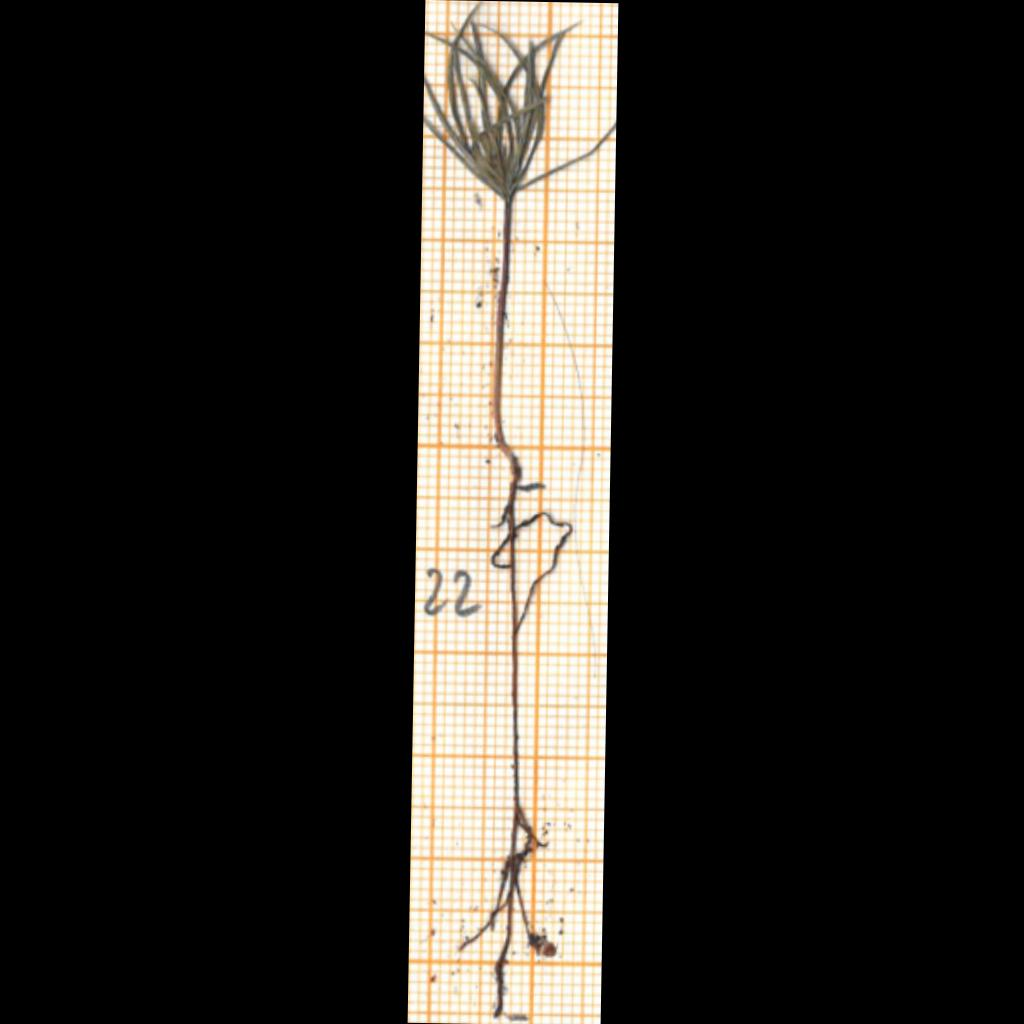flowerPinus: (423, 9, 615, 199)
rootPinus: (462, 482, 572, 1016)
stemPinus: (493, 202, 520, 479)
